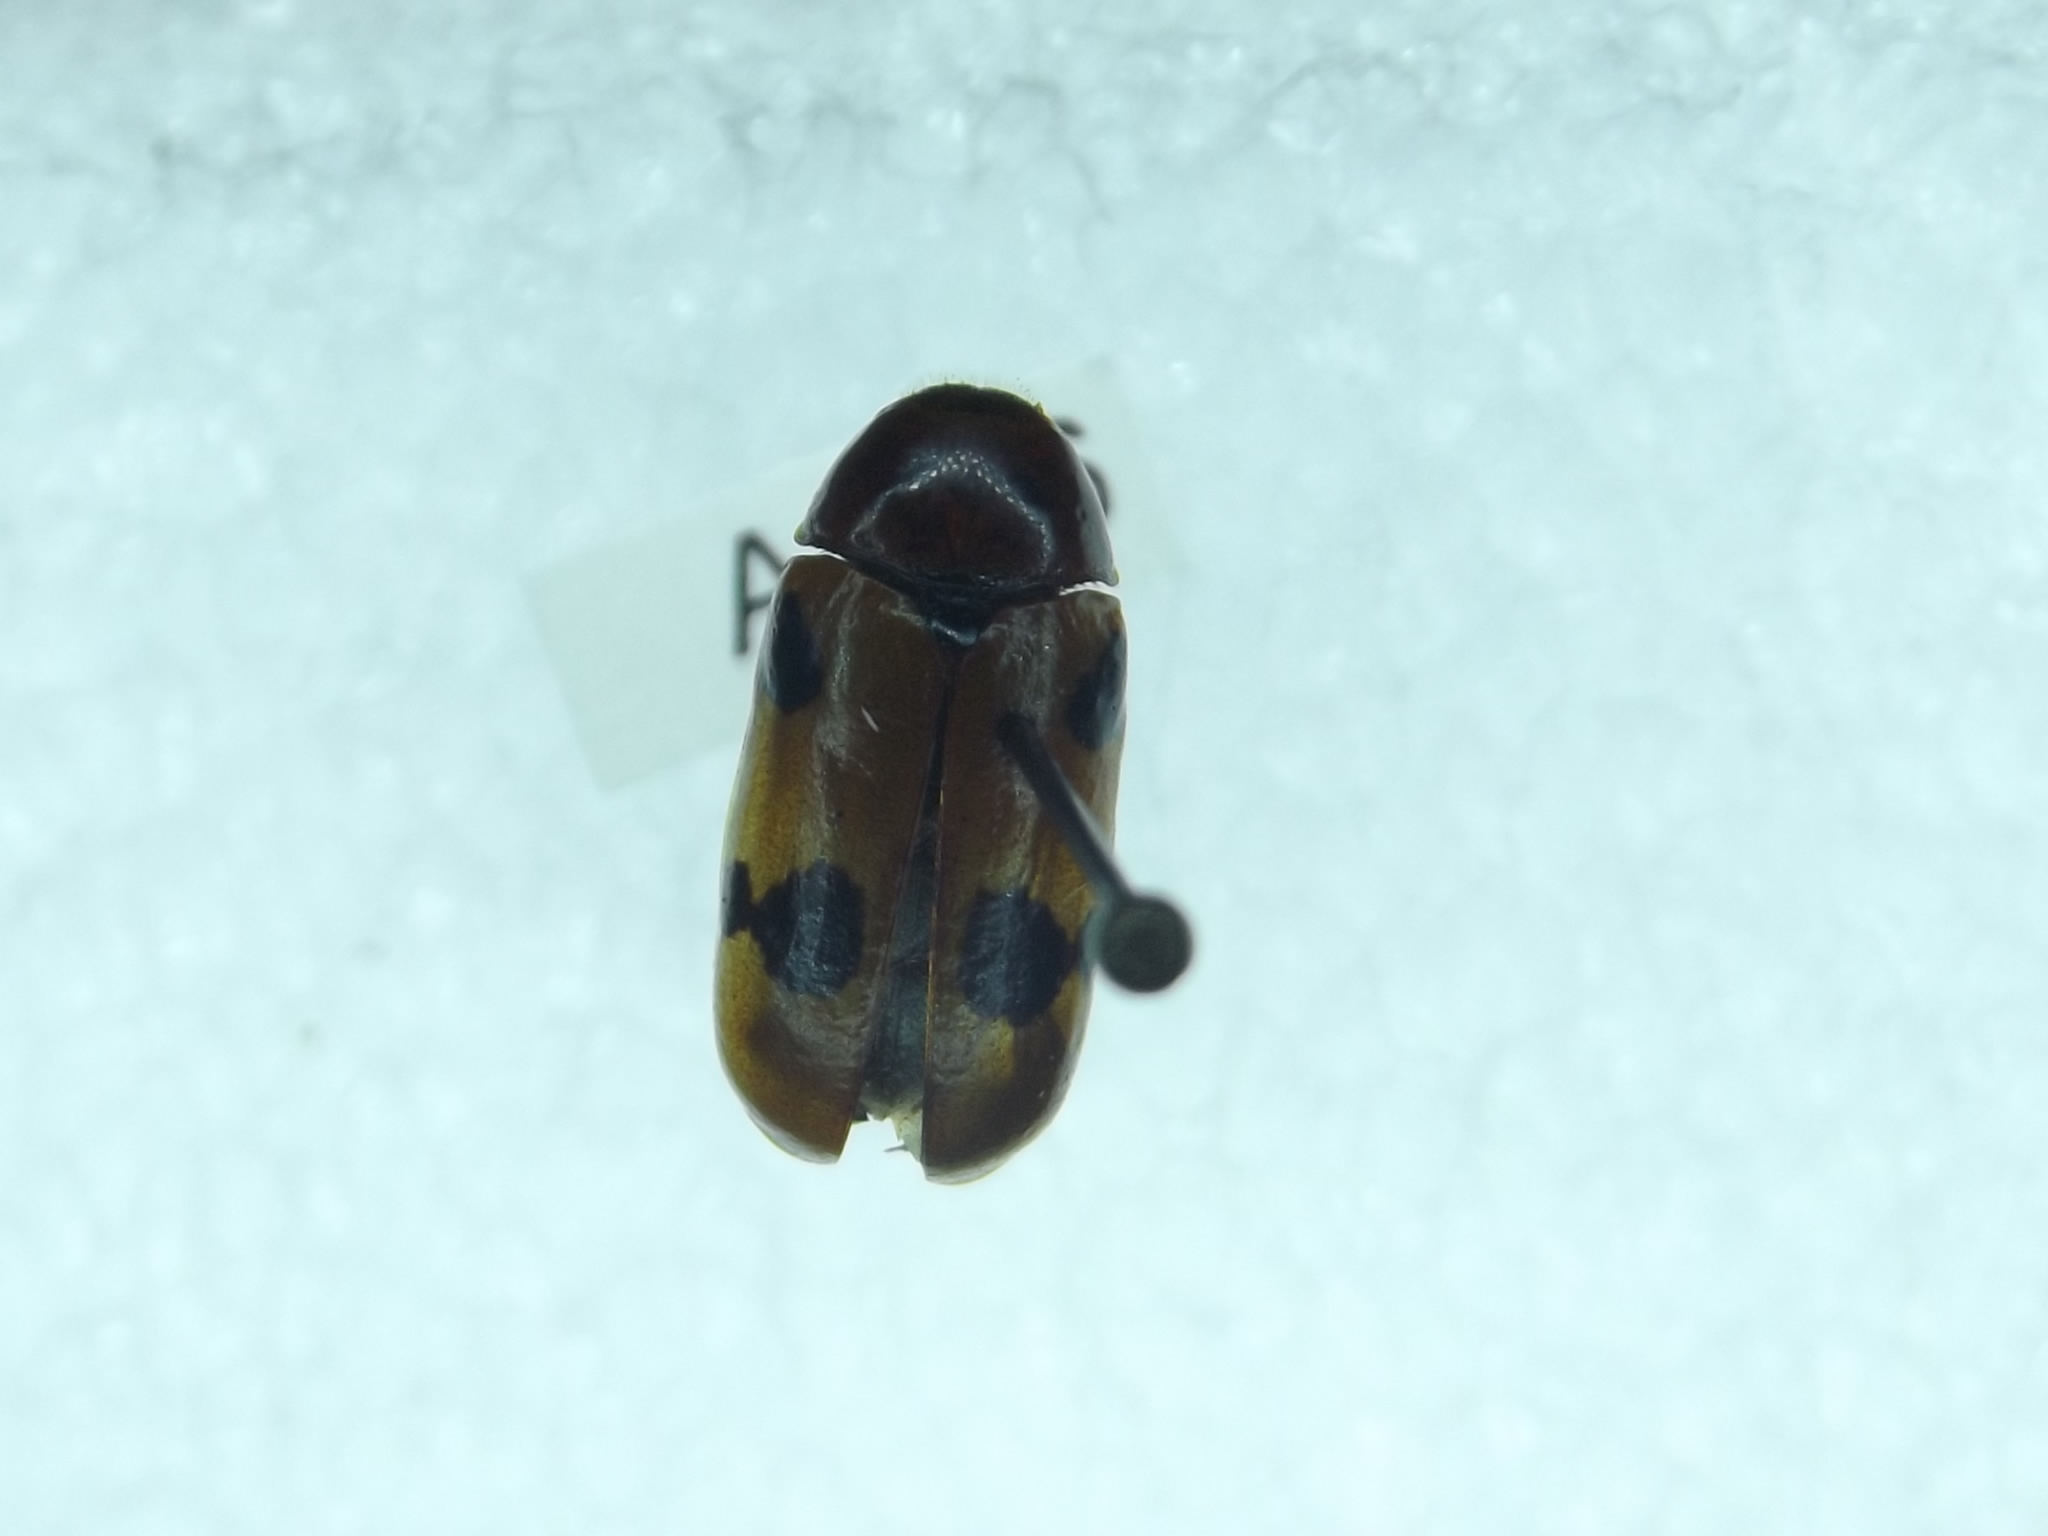Clytra_novempunctata: (693, 353, 1147, 1199)
